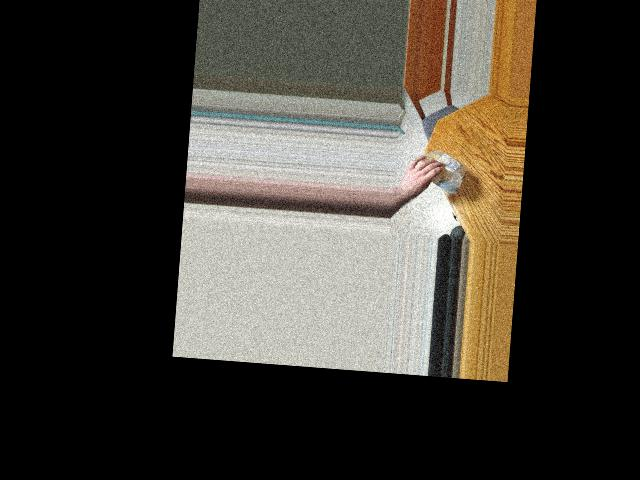cheese: (421, 151, 463, 182)
